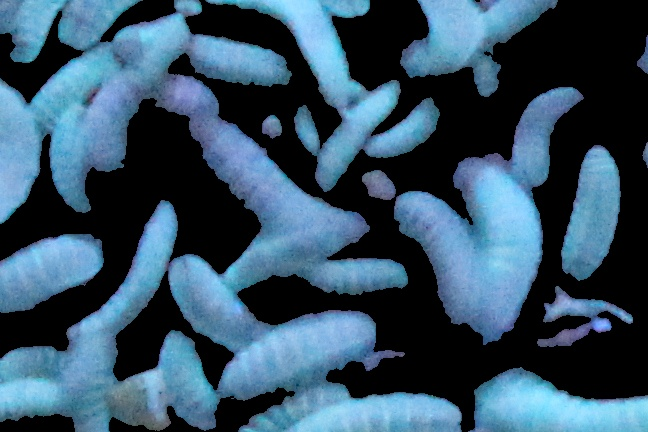larvae: (176, 104, 366, 256), (195, 1, 371, 128), (210, 301, 386, 401), (67, 190, 181, 344), (389, 190, 495, 346), (466, 146, 541, 339), (468, 364, 648, 429), (564, 128, 623, 292), (507, 72, 584, 189), (167, 251, 255, 343), (469, 1, 589, 67), (180, 27, 295, 91), (1, 243, 104, 313), (22, 40, 112, 115), (1, 56, 36, 243), (84, 81, 155, 173), (40, 110, 102, 211), (292, 395, 460, 432), (162, 326, 221, 427), (297, 250, 416, 296), (1, 363, 76, 428), (363, 103, 446, 160)
